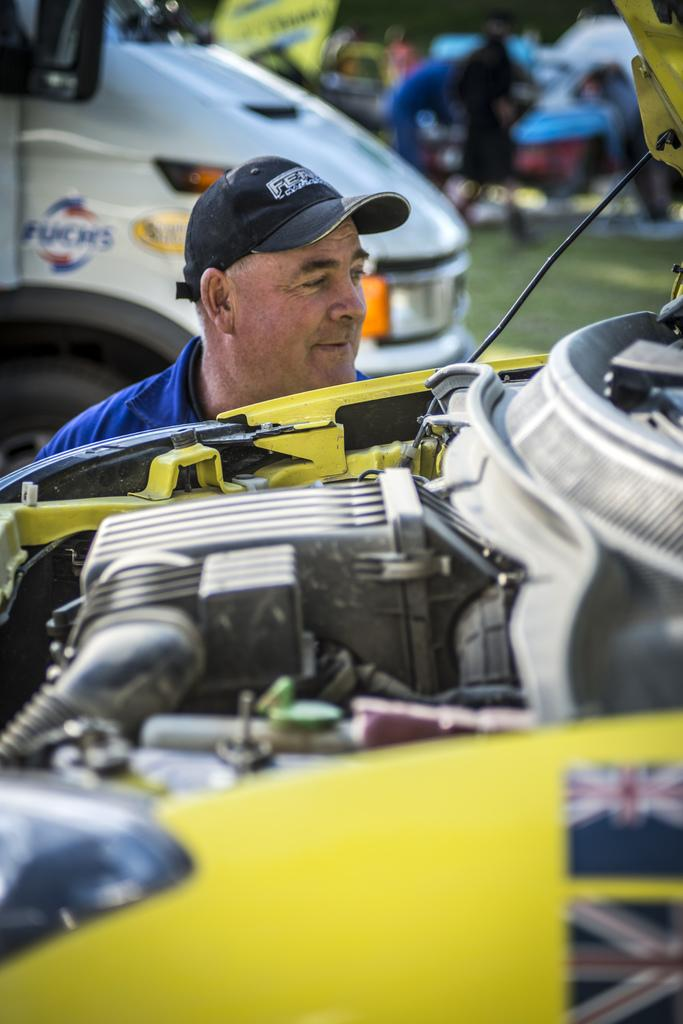Hat: (178, 150, 409, 302)
